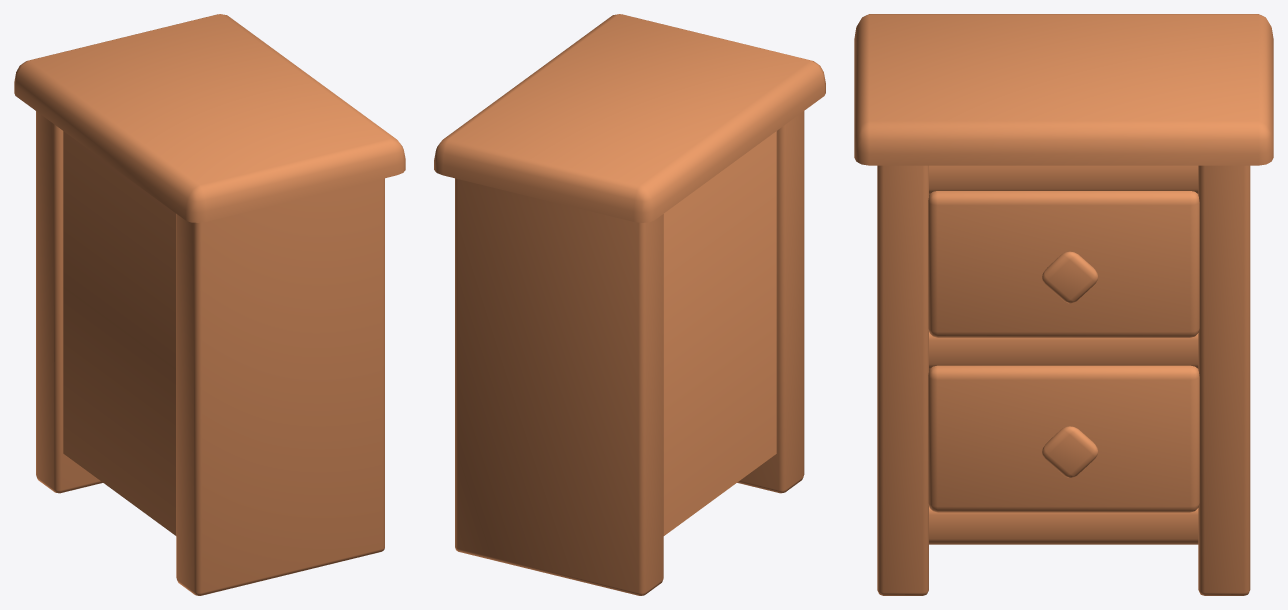
File: TableDeChevetGBL.glb
3 renders of one model, left to right at view 1: azimuth 30°, elevation 25°; view 2: azimuth 150°, elevation 25°; view 3: azimuth 270°, elevation 25°, orthographic. The views are drawn at different scales.
Visible parts, largest first — view 1: Bibliothèque.001; view 2: Bibliothèque.001; view 3: Bibliothèque.001.
Boxes of the visible parts, box(x1,y1,x2,y2) form: Bibliothèque.001: box(14, 14, 405, 595); Bibliothèque.001: box(434, 14, 825, 595); Bibliothèque.001: box(854, 14, 1273, 595).
Size of the model in its own units: 0.2353 by 0.4098 by 0.3264.
